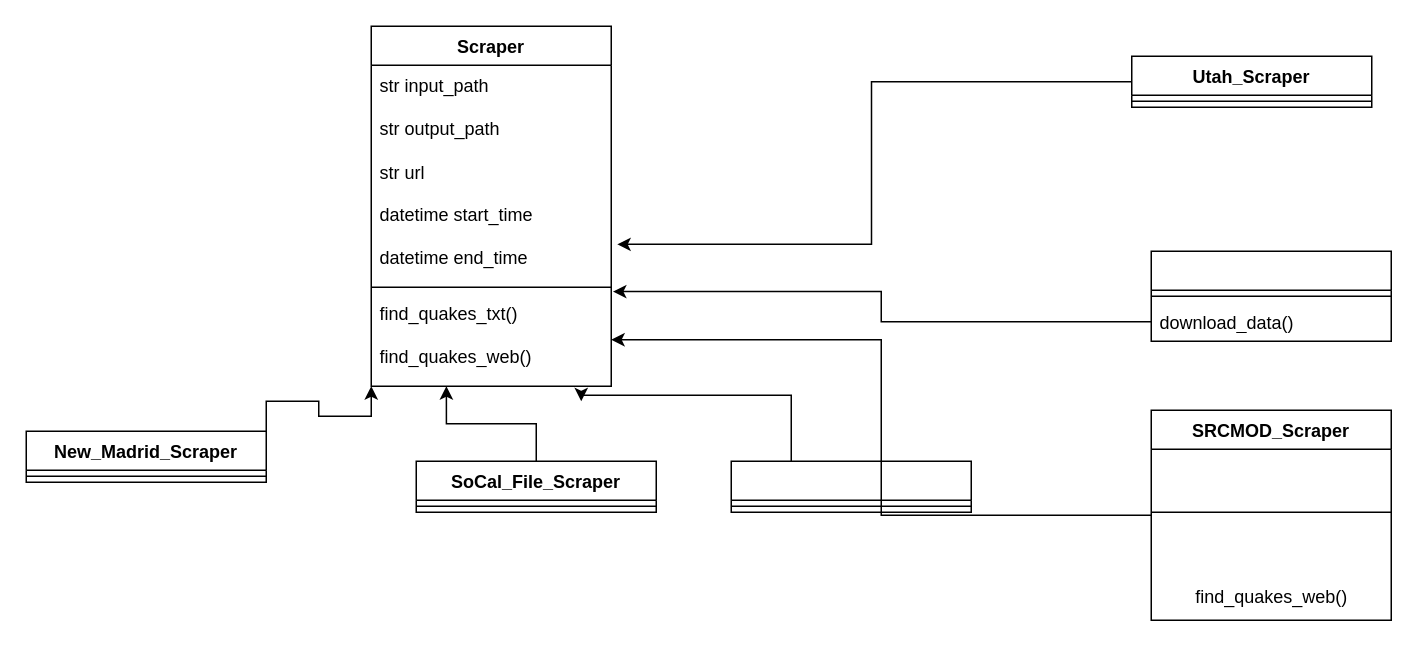
Image size: 1418x647. Some labels were removed from this diagram. The shapes that lost their labels are listed below. From the top down, each one's box as (x1, y1, x2, y2) in pixels, then its label:
(1150, 250, 1391, 341): usgs_scraper
(730, 460, 971, 512): Socal_Web_Scraper
